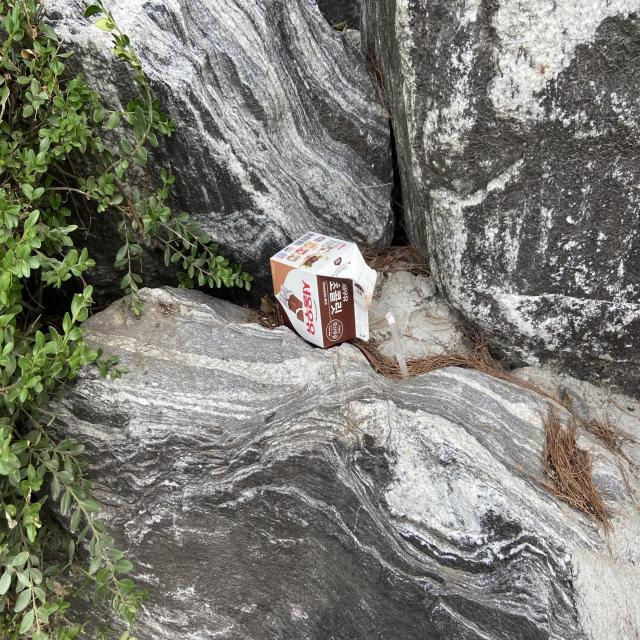paperpack: (271, 232, 377, 347)
